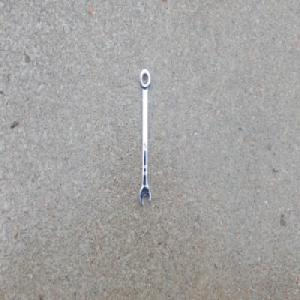Wrench: (138, 66, 151, 207)
